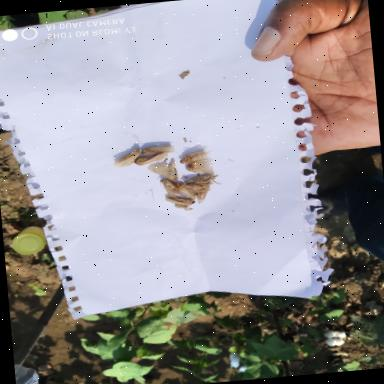abw: (146, 160, 181, 184), (110, 147, 143, 170), (133, 152, 170, 170), (155, 177, 184, 199), (178, 149, 214, 166), (138, 143, 178, 158), (184, 172, 221, 187), (163, 194, 197, 210), (192, 180, 212, 206), (182, 162, 218, 176), (175, 182, 199, 202)
